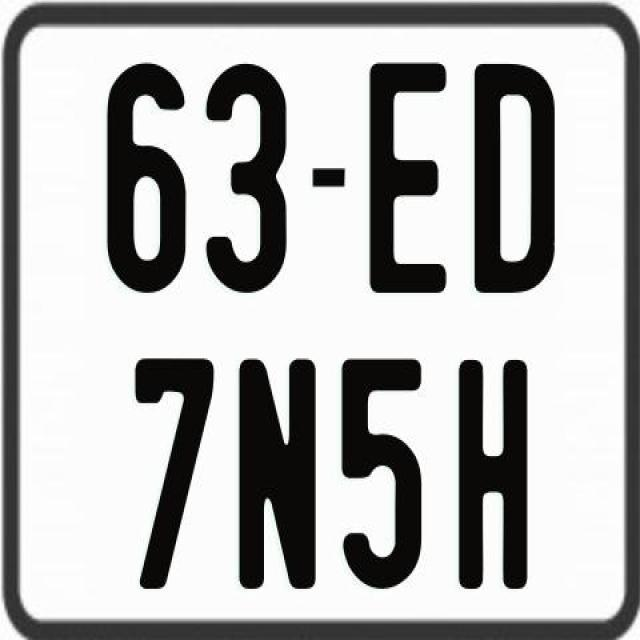3: (204, 61, 286, 294)
5: (337, 358, 419, 592)
6: (106, 60, 186, 298)
7: (130, 356, 217, 594)
D: (472, 59, 559, 291)
E: (367, 59, 452, 291)
H: (456, 358, 532, 597)
N: (234, 358, 318, 598)
